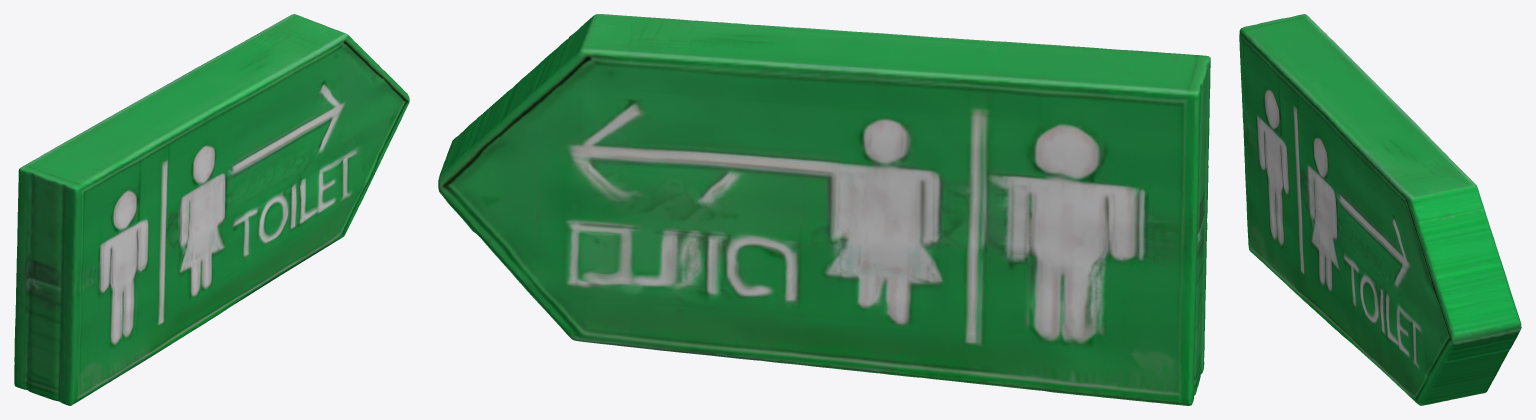
The picture shows the model from 3 angles, left to right: view 1: azimuth 30°, elevation 25°; view 2: azimuth 150°, elevation 25°; view 3: azimuth 270°, elevation 25°; orthographic projection. The views are drawn at different scales.
Bounding box in the file's own units: 0.9056 × 0.4282 × 0.4735.
1 material, 1 textured.
